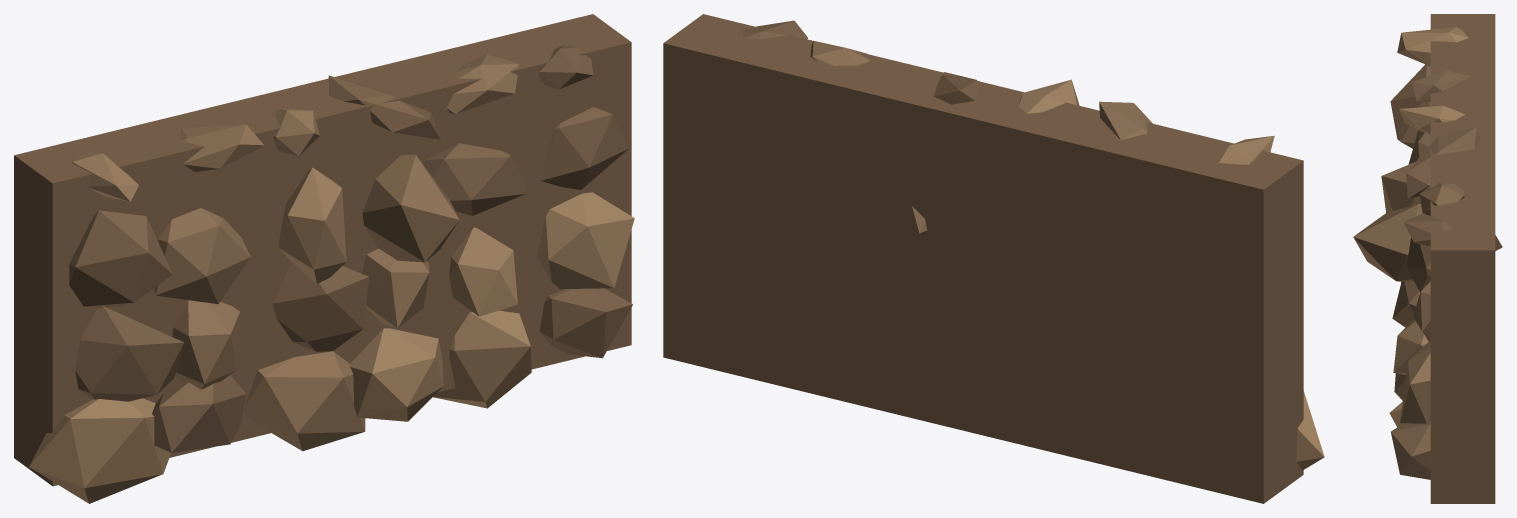
Rendered from NorthCliff5.glb.
The picture shows the model from 3 angles, left to right: view 1: azimuth 30°, elevation 25°; view 2: azimuth 150°, elevation 25°; view 3: azimuth 270°, elevation 25°; orthographic projection. The views are drawn at different scales.
Visible parts, largest first — view 1: NorthCliff5.001; view 2: NorthCliff5.001; view 3: NorthCliff5.001.
Part boxes in pixels (x1,y1,x2,y2): NorthCliff5.001: (14,14,634,503); NorthCliff5.001: (663,14,1324,503); NorthCliff5.001: (1353,14,1502,503).
Size of the model in its own units: 10.8 by 5.96 by 2.78.
